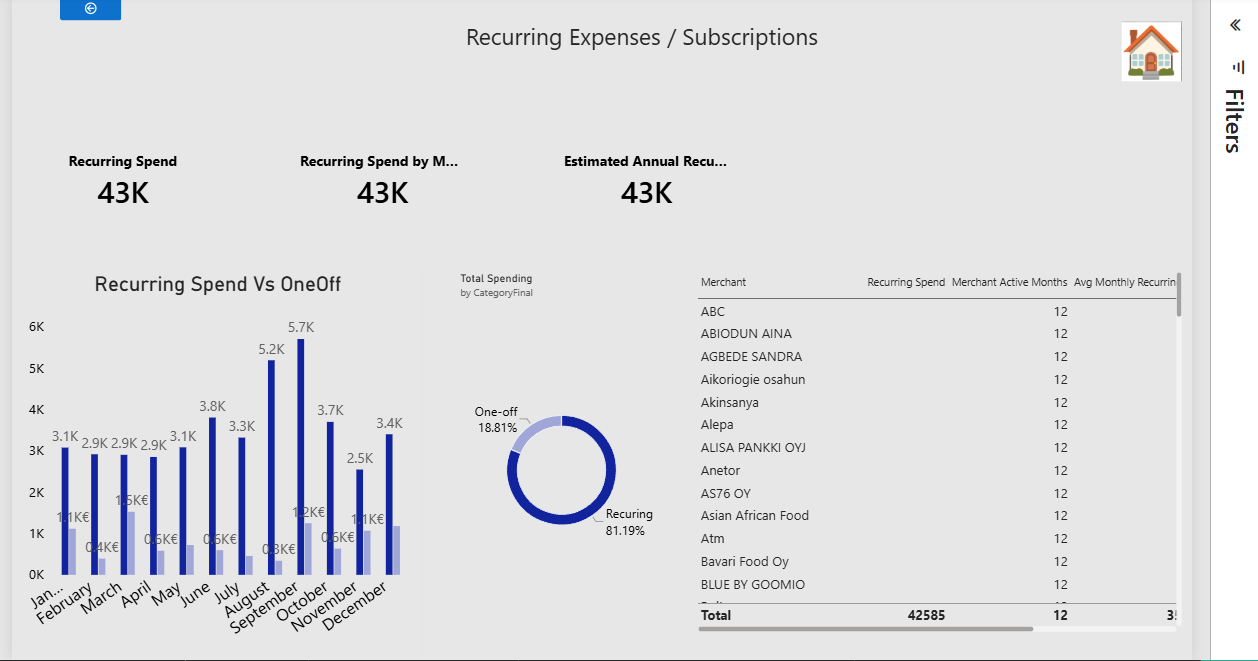

The dashboard page shown, as its layout file describes it:
{"tool":"powerbi","page":{"name":"Recurring Expenses / Subscriptions ","canvas":[1920,1080],"ordinal":3},"visuals":[{"type":"cardVisual","fields":{"Data":["_3_measure.Recurring Spend"]},"box":[29.3,200.1,300,200],"z":0},{"type":"cardVisual","fields":{"Data":["_3_measure.Recurring Spend by Month"]},"box":[451.4,200.1,300,200],"z":1000},{"type":"clusteredColumnChart","title":"Recurring Spend Vs OneOff  ","fields":{"Category":["Date_dim.Month"],"Y":["_3_measure.Recurring Spend","_3_measure.OneOff Spend by Month"]},"box":[0,434.3,668.5,646.6],"z":2000},{"type":"tableEx","fields":{"Values":["bank_statement_fact.Merchant","_3_measure.Recurring Spend","_3_measure.Merchant Active Months","_3_measure.Avg Monthly Recurring Spend","_3_measure.Estimated Annual Recurring Cost"]},"box":[1097.9,434.3,822.2,617.3],"z":3000},{"type":"cardVisual","fields":{"Data":["_3_measure.Estimated Annual Recurring Cost"]},"box":[880.8,200.1,300,200],"z":4000},{"type":"donutChart","fields":{"Category":["bank_statement_fact.CategoryFinal"],"Y":["_measure.Total Spending"]},"box":[712.4,434.3,363.5,617.3],"z":5000},{"type":"image","box":[1788.2,41.5,131.8,97.6],"z":6000},{"type":"actionButton","box":[78.7,0,100,40],"z":7000},{"type":"textbox","box":[600.2,39,858.8,73.2],"z":7001}]}

Visuals, with their boxes on the page's 1920x1080 design canvas (x1, y1, x2, y2). These are canvas units, not pixel positions in the 1258x661 screenshot, which may show the page scaled, cropped or inside an application window:
cardVisual - _3_measure.Recurring Spend: bbox=[29, 200, 329, 400]
cardVisual - _3_measure.Recurring Spend by Month: bbox=[451, 200, 751, 400]
"Recurring Spend Vs OneOff  " clusteredColumnChart: bbox=[0, 434, 668, 1081]
tableEx - bank_statement_fact.Merchant x _3_measure.Recurring Spend: bbox=[1098, 434, 1920, 1052]
cardVisual - _3_measure.Estimated Annual Recurring Cost: bbox=[881, 200, 1181, 400]
donutChart - bank_statement_fact.CategoryFinal x _measure.Total Spending: bbox=[712, 434, 1076, 1052]
image: bbox=[1788, 42, 1920, 139]
actionButton: bbox=[79, 0, 179, 40]
textbox: bbox=[600, 39, 1459, 112]
